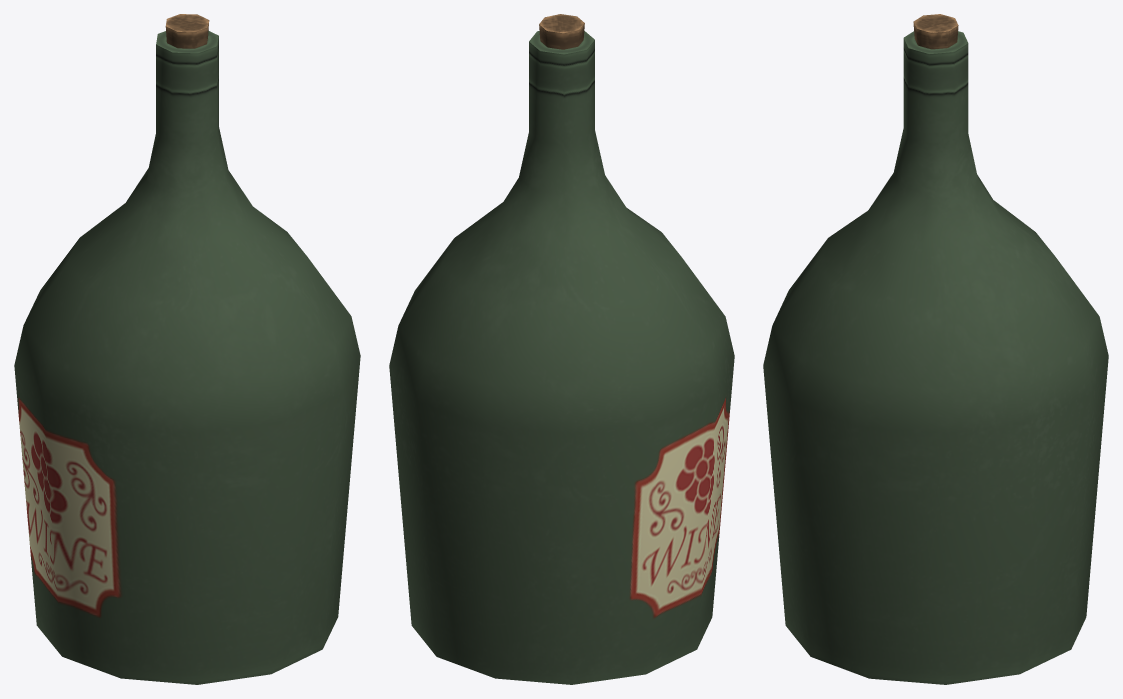
The model's file is LOD1_bigBottle_wLabel_closed.fbx.
3 views of the same model, side by side, from view 1: azimuth 30°, elevation 25°; view 2: azimuth 150°, elevation 25°; view 3: azimuth 270°, elevation 25° (orthographic).
Parts seen in each view (by area): view 1: LOD1_bigBottle_wLabel_closed; view 2: LOD1_bigBottle_wLabel_closed; view 3: LOD1_bigBottle_wLabel_closed.
Boxes of the visible parts, x1=… form: LOD1_bigBottle_wLabel_closed: x1=14, y1=14, x2=360, y2=684; LOD1_bigBottle_wLabel_closed: x1=389, y1=14, x2=734, y2=684; LOD1_bigBottle_wLabel_closed: x1=763, y1=14, x2=1108, y2=684.
Size of the model in its own units: 0.2169 by 0.4141 by 0.2169.
